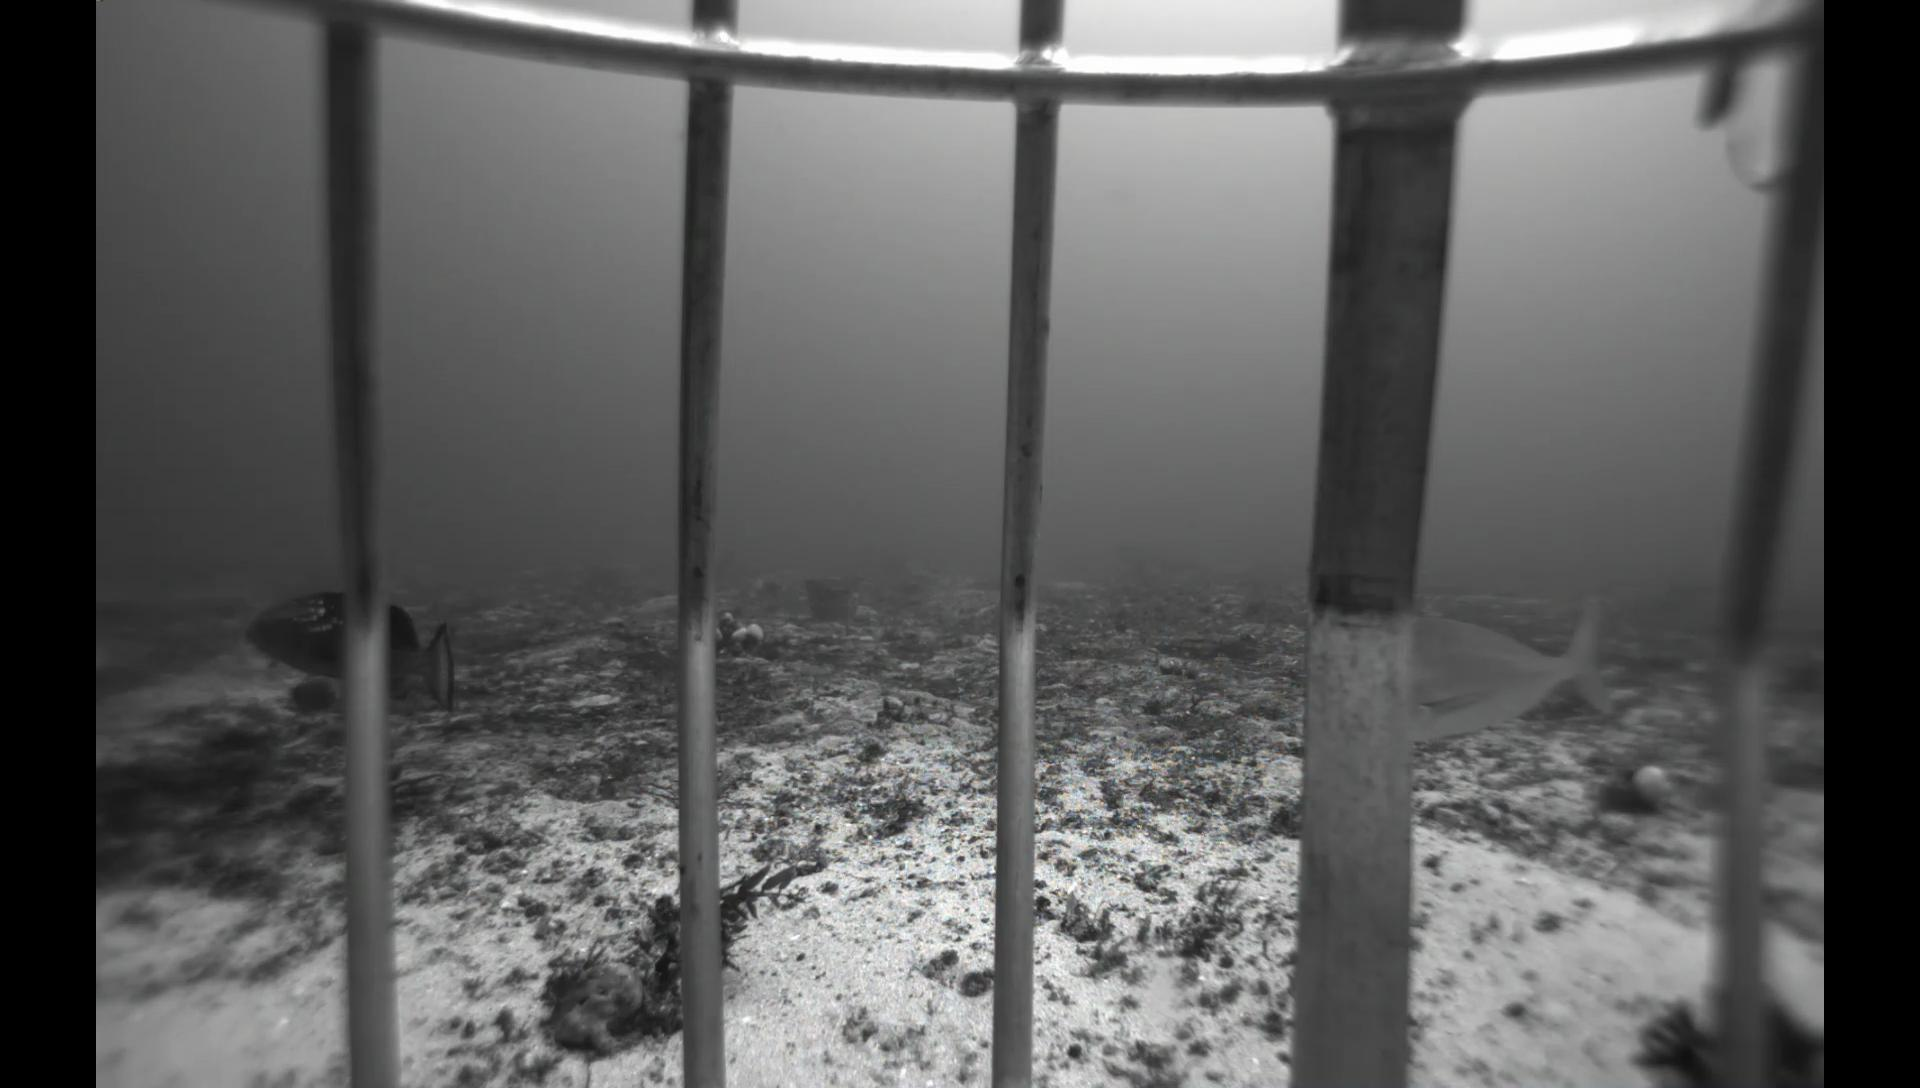CALAMUSNODOSUS-170210608: (1411, 587, 1631, 742)
CHAETODONOCELLATUS-170260307: (934, 572, 961, 589), (745, 578, 764, 601)
EPINEPHELUSMORIO-170021211: (237, 586, 477, 727)
PRISTIGENYSALTA-170050401: (282, 677, 344, 716)
